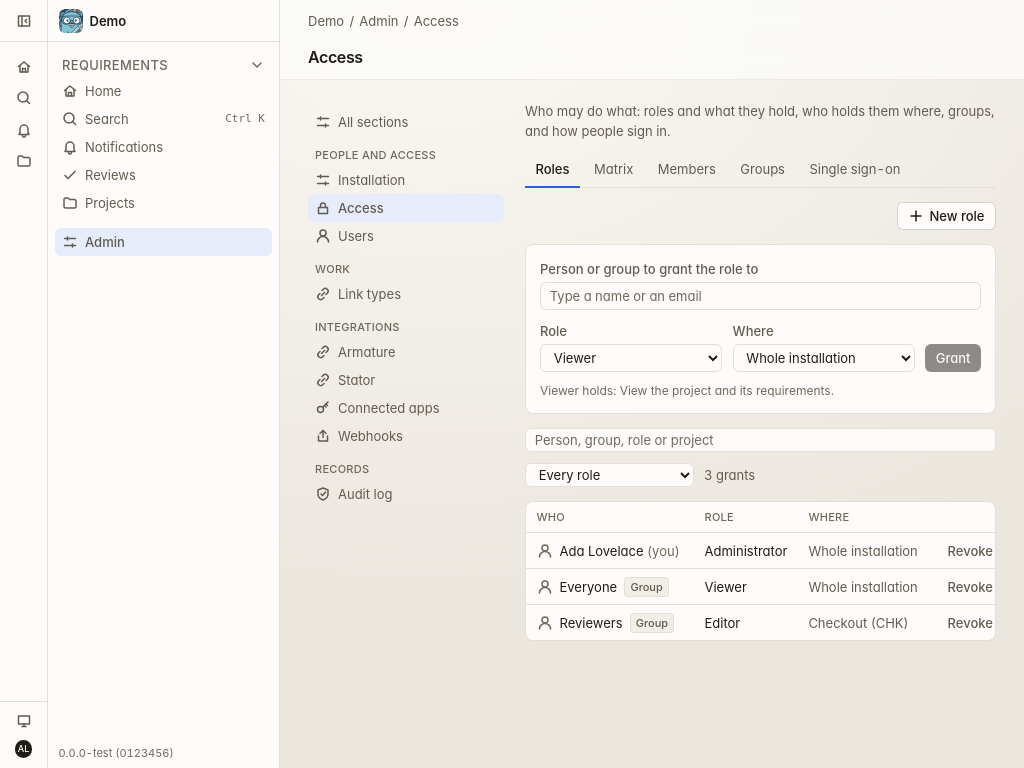
Test case: the Roles tab › asks before a grant goes, and shows the server's refusal in its sentence
Click the button with aria-label "Revoke Administrator from Ada Lovelace" at (970, 551), box [939,538,1002,563]
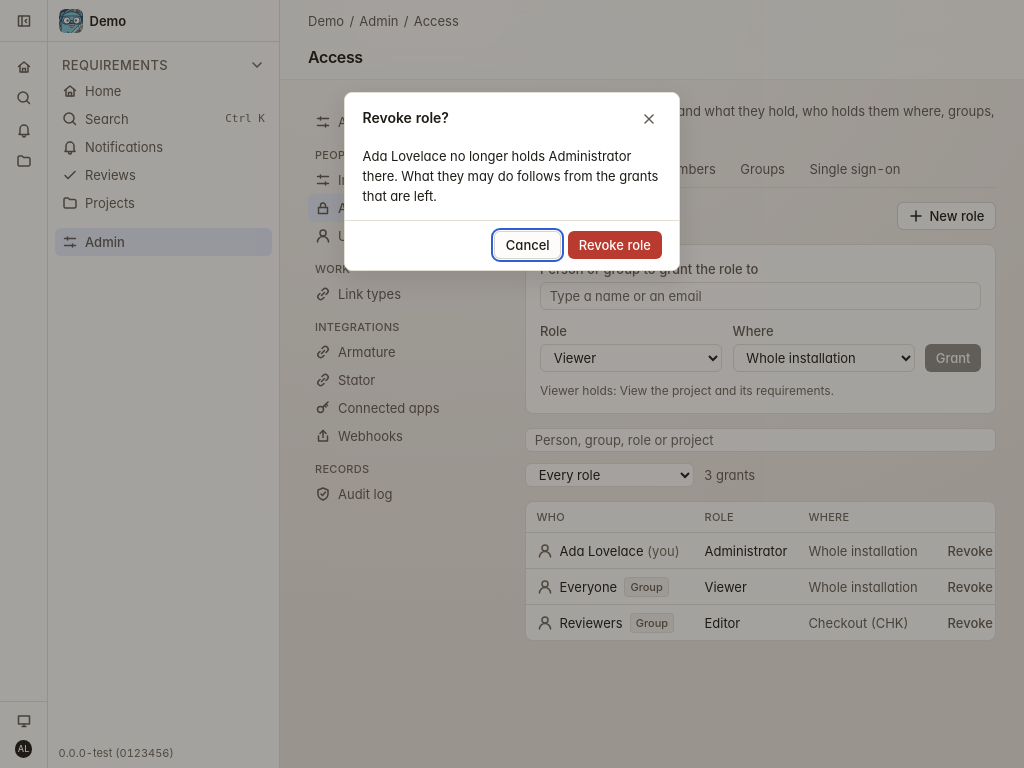
expect the dialog is shown: met, box [344,92,680,271]
Click the button "Revoke role" at (615, 245), box [568,231,662,259]
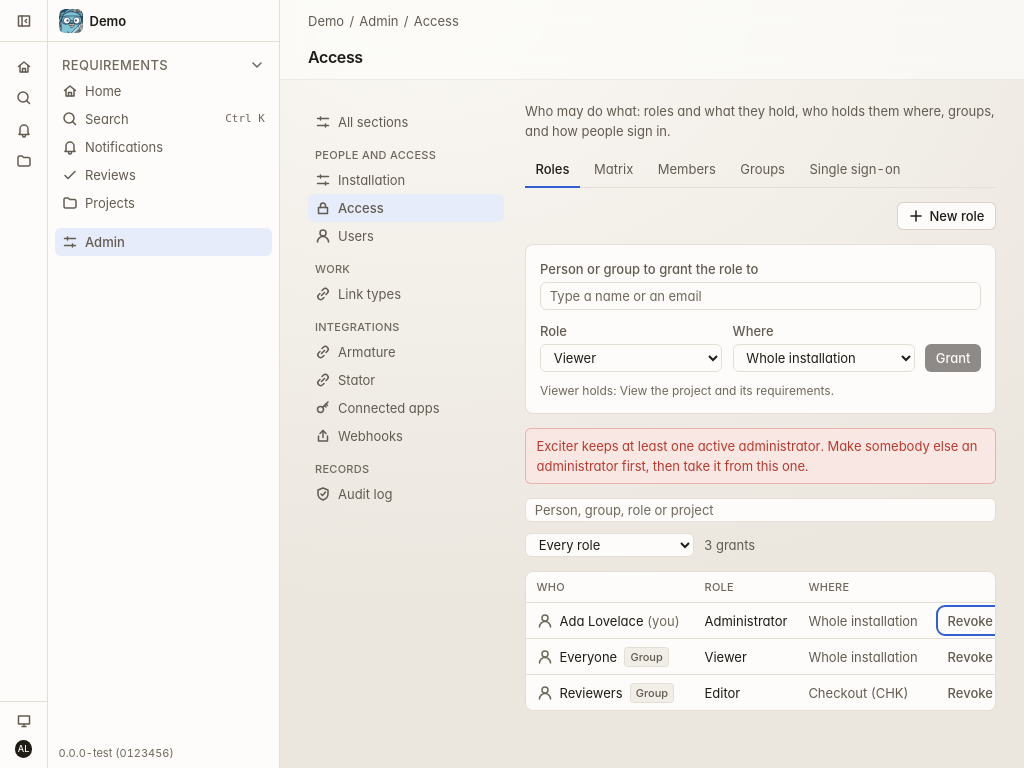
expect the text "Exciter keeps at least one active administrator. Make somebody else an administrator first, then take it from this one." is shown: met, box [536,438,978,474]
